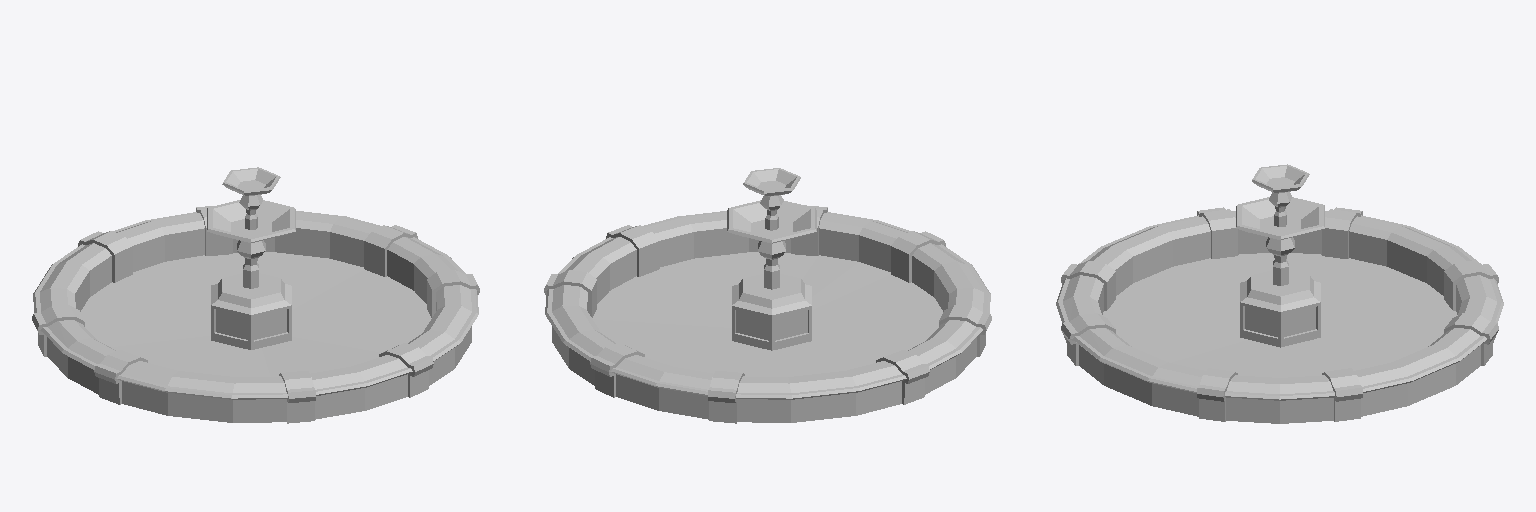
File: fuente.obj
3 views of the same model, side by side, from view 1: azimuth 30°, elevation 25°; view 2: azimuth 150°, elevation 25°; view 3: azimuth 270°, elevation 25° (orthographic).
Visible parts, largest first — view 1: SM_Fountain:SM_Fountain1; view 2: SM_Fountain:SM_Fountain1; view 3: SM_Fountain:SM_Fountain1.
Part boxes in pixels (left/top/right/bottom): SM_Fountain:SM_Fountain1: left=32, top=167, right=479, bottom=423; SM_Fountain:SM_Fountain1: left=544, top=168, right=991, bottom=423; SM_Fountain:SM_Fountain1: left=1056, top=164, right=1503, bottom=423.
Bounding box in the file's own units: 13.08 × 4.99 × 13.07.